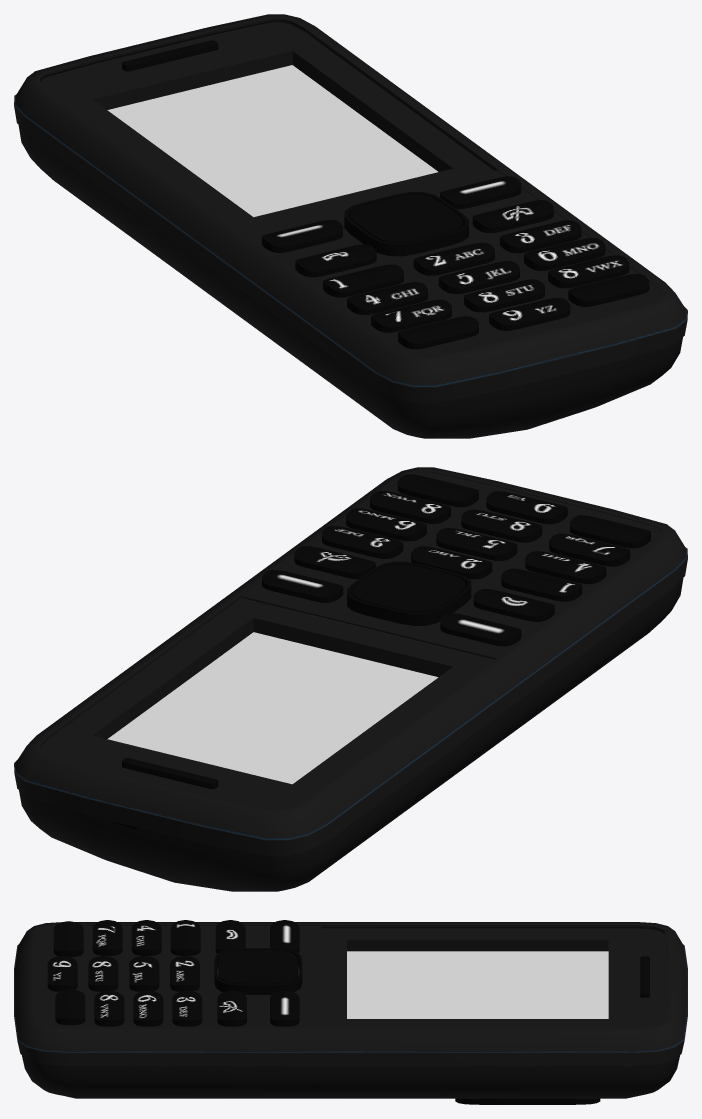
Rendered from OldPhone.fbx.
3 renders of one model, top to bottom at view 1: azimuth 30°, elevation 25°; view 2: azimuth 150°, elevation 25°; view 3: azimuth 270°, elevation 25°, orthographic. The views are drawn at different scales.
Visible parts, largest first — view 1: Phone; view 2: Phone; view 3: Phone.
Part boxes in pixels (x1=…): Phone: x1=14, y1=14, x2=687, y2=438; Phone: x1=14, y1=467, x2=687, y2=891; Phone: x1=14, y1=920, x2=687, y2=1104.
Size of the model in its own units: 2.6 by 1.09 by 6.17.
4 materials, 1 textured.
